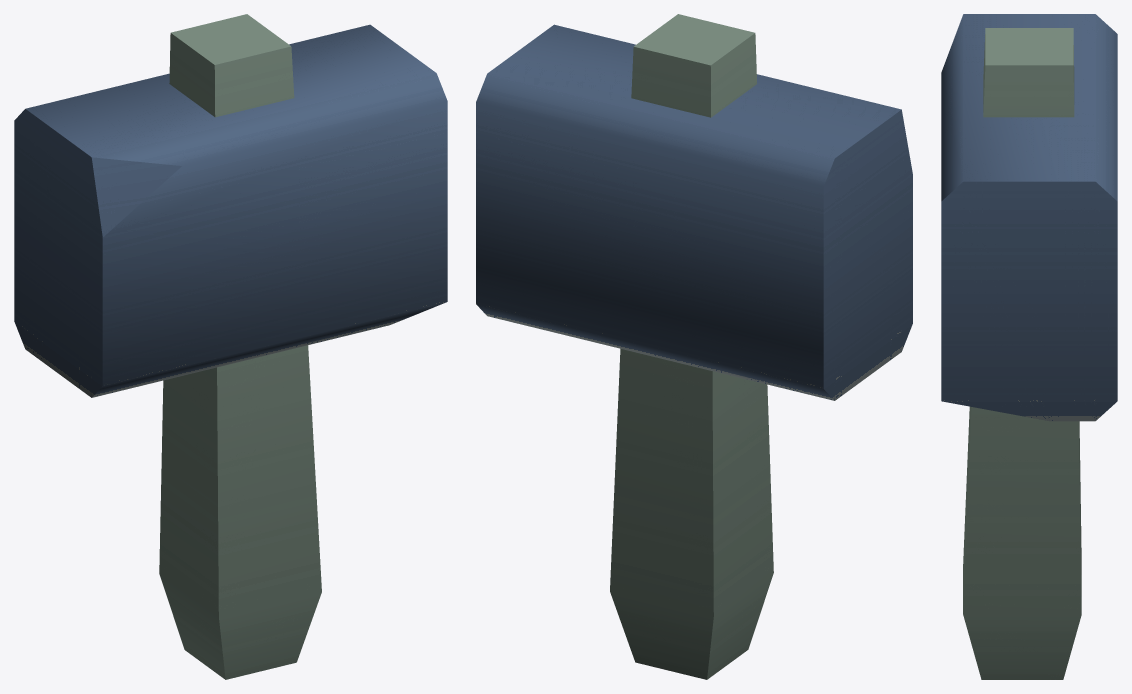
File: survival-kit__tool-hammer.glb
The picture shows the model from 3 angles, left to right: view 1: azimuth 30°, elevation 25°; view 2: azimuth 150°, elevation 25°; view 3: azimuth 270°, elevation 25°; orthographic projection.
Parts seen in each view (by area): view 1: tool-hammer; view 2: tool-hammer; view 3: tool-hammer.
Part boxes in pixels (left/top/right/bottom): tool-hammer: left=14, top=14, right=447, bottom=679; tool-hammer: left=476, top=14, right=912, bottom=679; tool-hammer: left=941, top=14, right=1117, bottom=679.
Bounding box in the file's own units: 0.3518 × 0.6 × 0.1564.
1 material, 1 textured.
